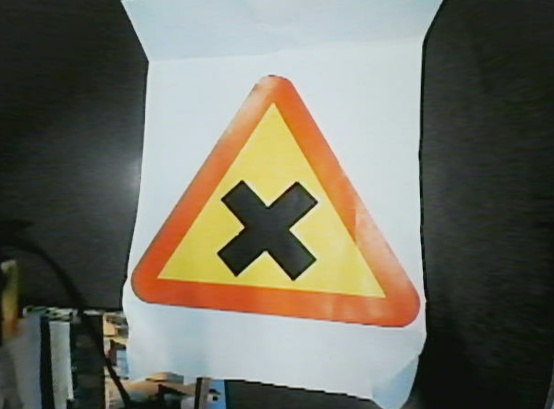junction: (115, 63, 427, 334)
